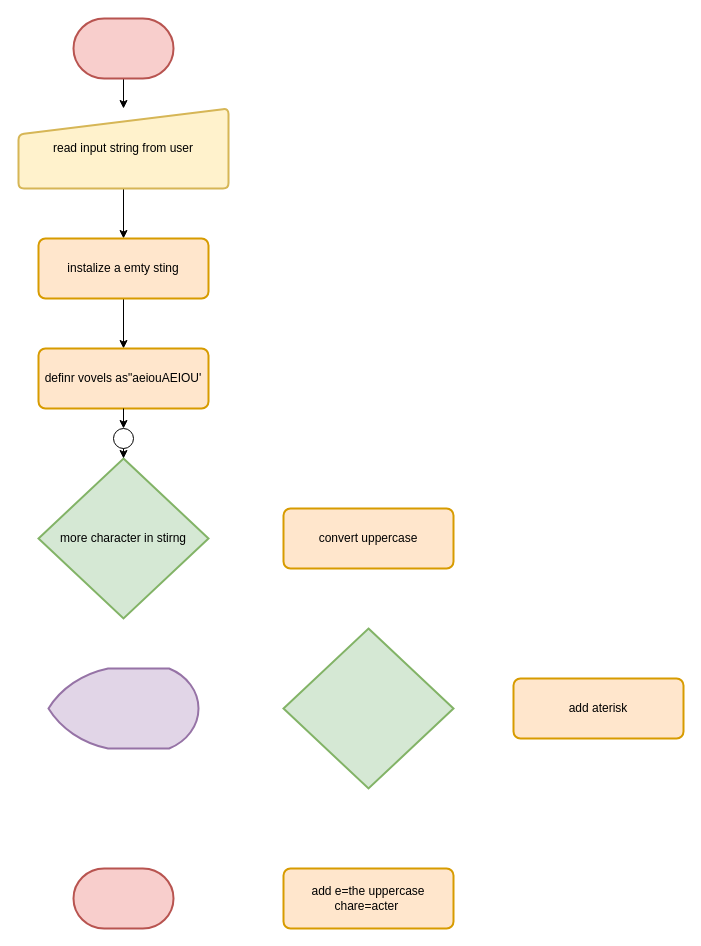
This 701x946 diagram has some shape labels left out. Each missing label, with the centre of its shape:
end: the point at 123,898
is character a vovels: the point at 368,708
print the modfine stirng: the point at 123,708
start: the point at 123,48
